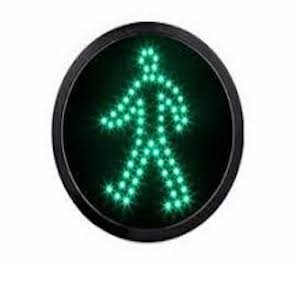green: (108, 43, 188, 203)
